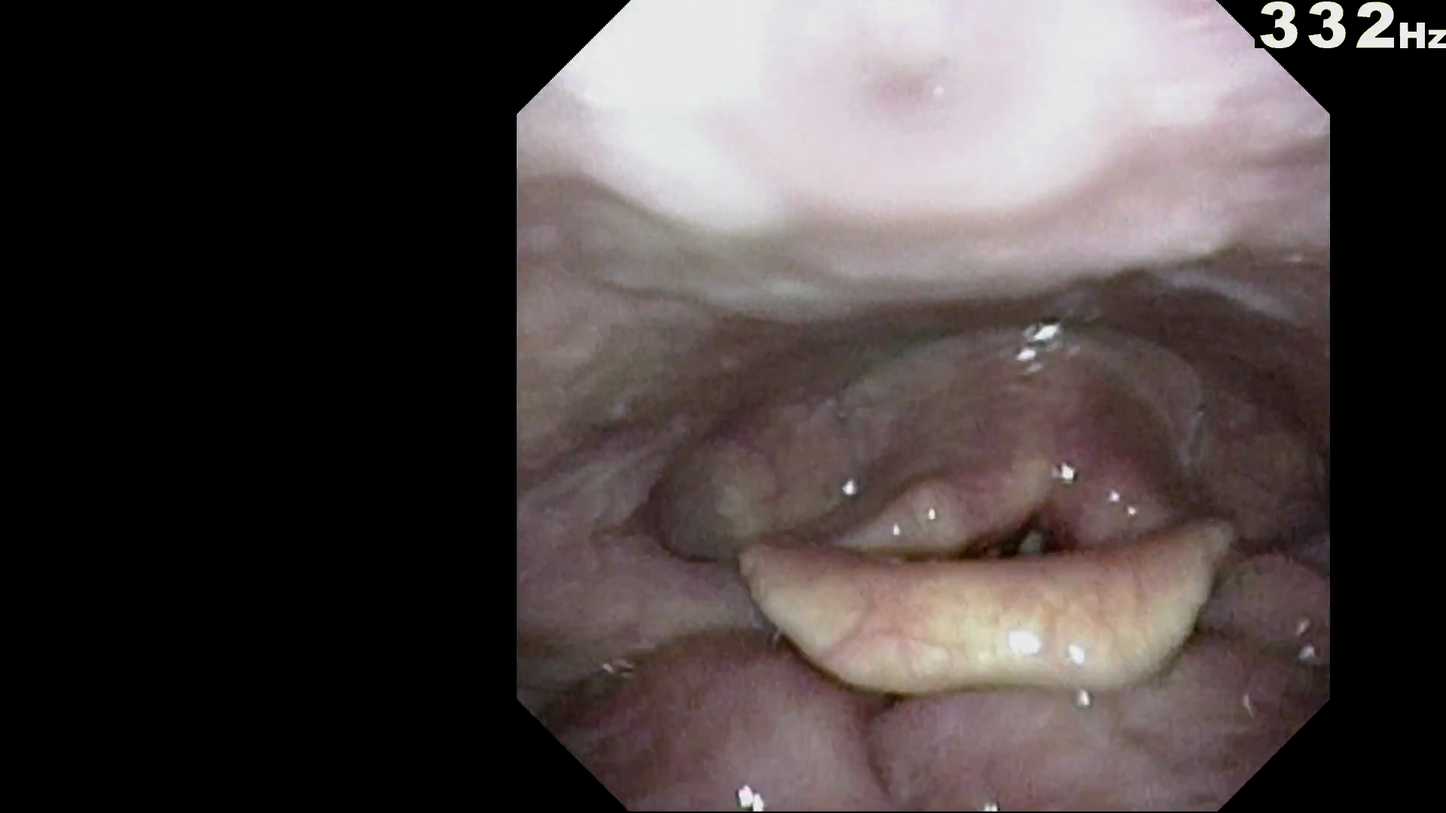epiglottis: (718, 529, 1260, 668)
trachea: (973, 485, 1094, 575)
